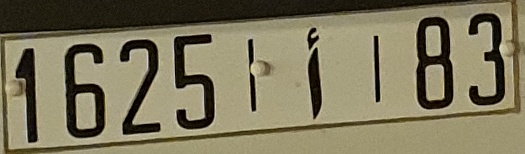1: (12, 45, 41, 145)
2: (118, 36, 162, 136)
3: (466, 11, 506, 106)
5: (170, 32, 217, 131)
6: (62, 41, 107, 139)
8: (415, 15, 455, 110)
a: (303, 24, 325, 121)
